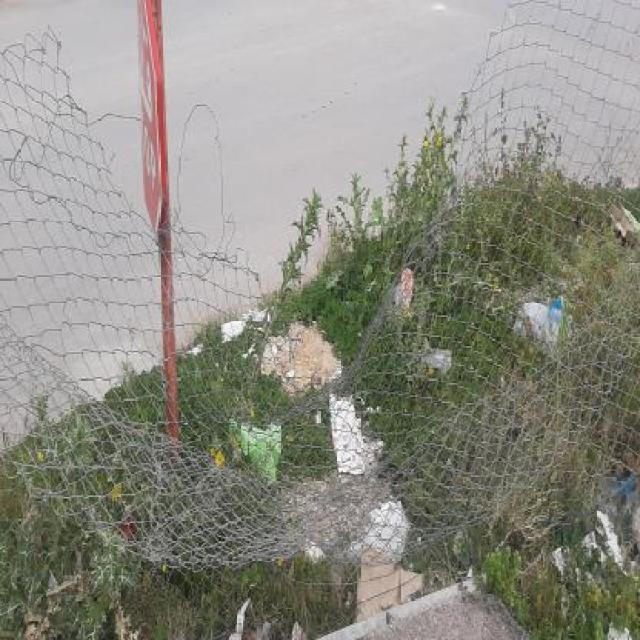fence line: (99, 59, 490, 273)
